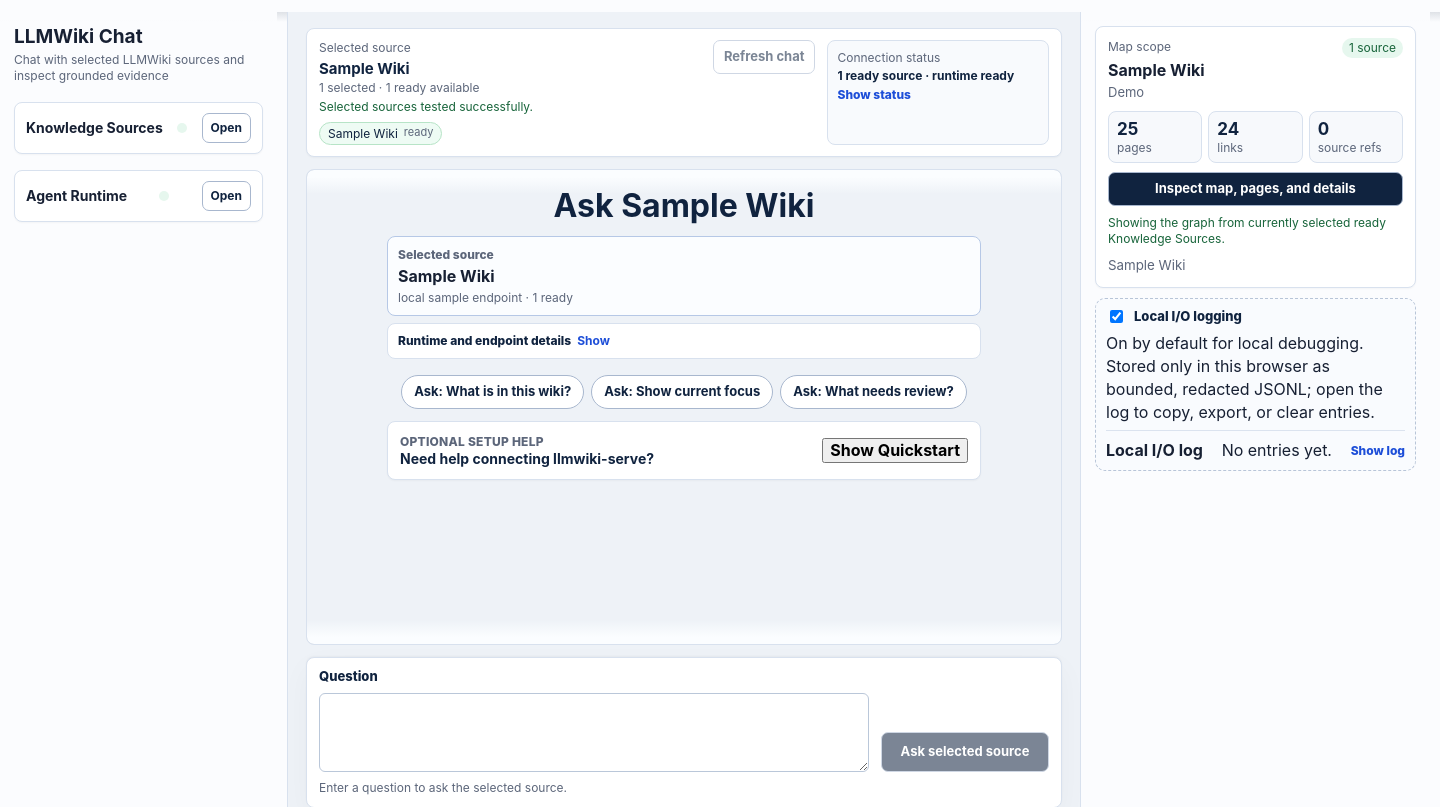
Test: LLMWiki Chat › shows more than the old compact graph cap in the page list
The width and height of the screenshot is (1440, 807).
Expected: the text "Sample Wiki" in the row of "Connection status" is shown, [319,59,410,78]
What coordinates should you click on to do the following:
click the button "Inspect map, pages, and details"
I would click on:
 (1256, 189)
Its box is [1108,172,1403,206].
(page scrolled)
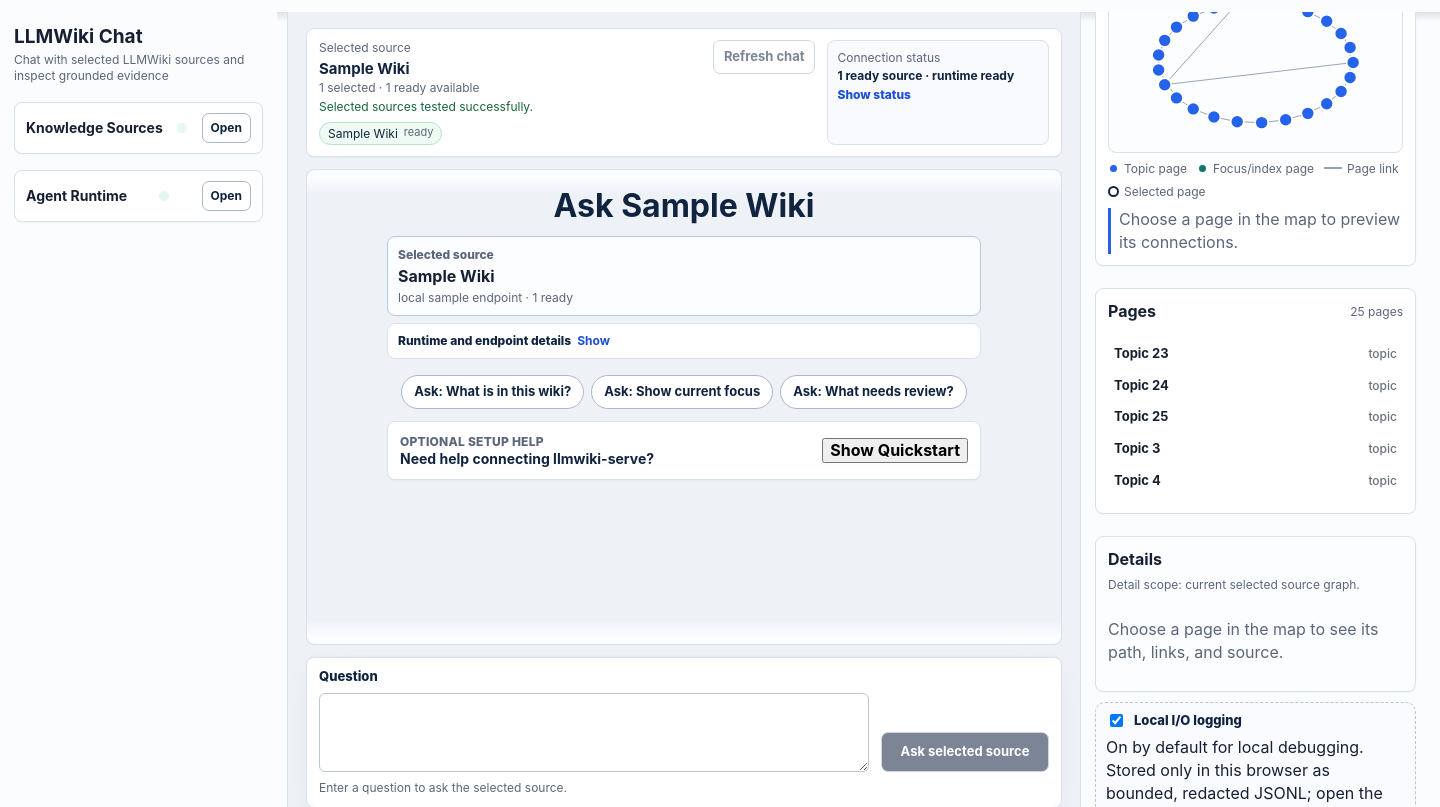
Result: the element named "Graph" is shown at [1095,12,1416,266]
Result: the element "Pages" is shown at [1095,288,1416,514]
Result: the element "Details" is shown at [1095,536,1416,692]
